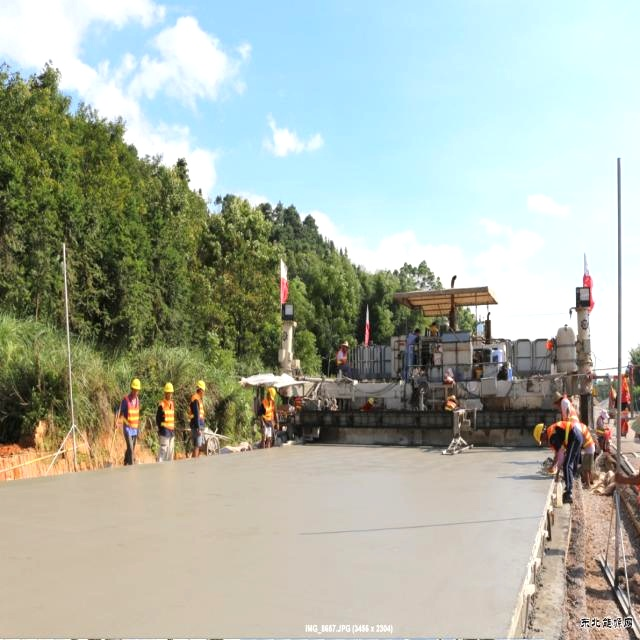Con_Chaleco: (547, 421, 577, 455), (123, 396, 141, 432), (156, 398, 176, 430), (189, 394, 205, 422), (260, 400, 276, 424)
